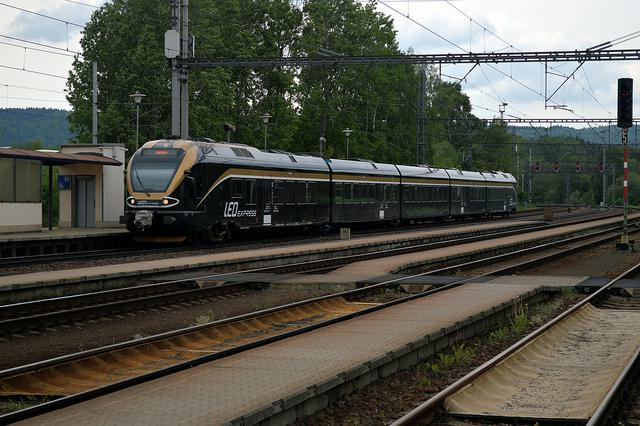Train: (125, 124, 518, 247)
